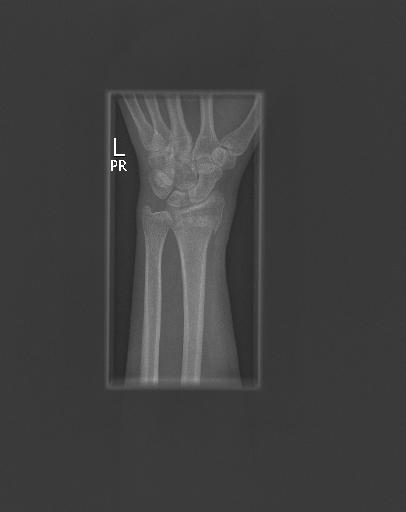fractured: (168, 215, 225, 242)
